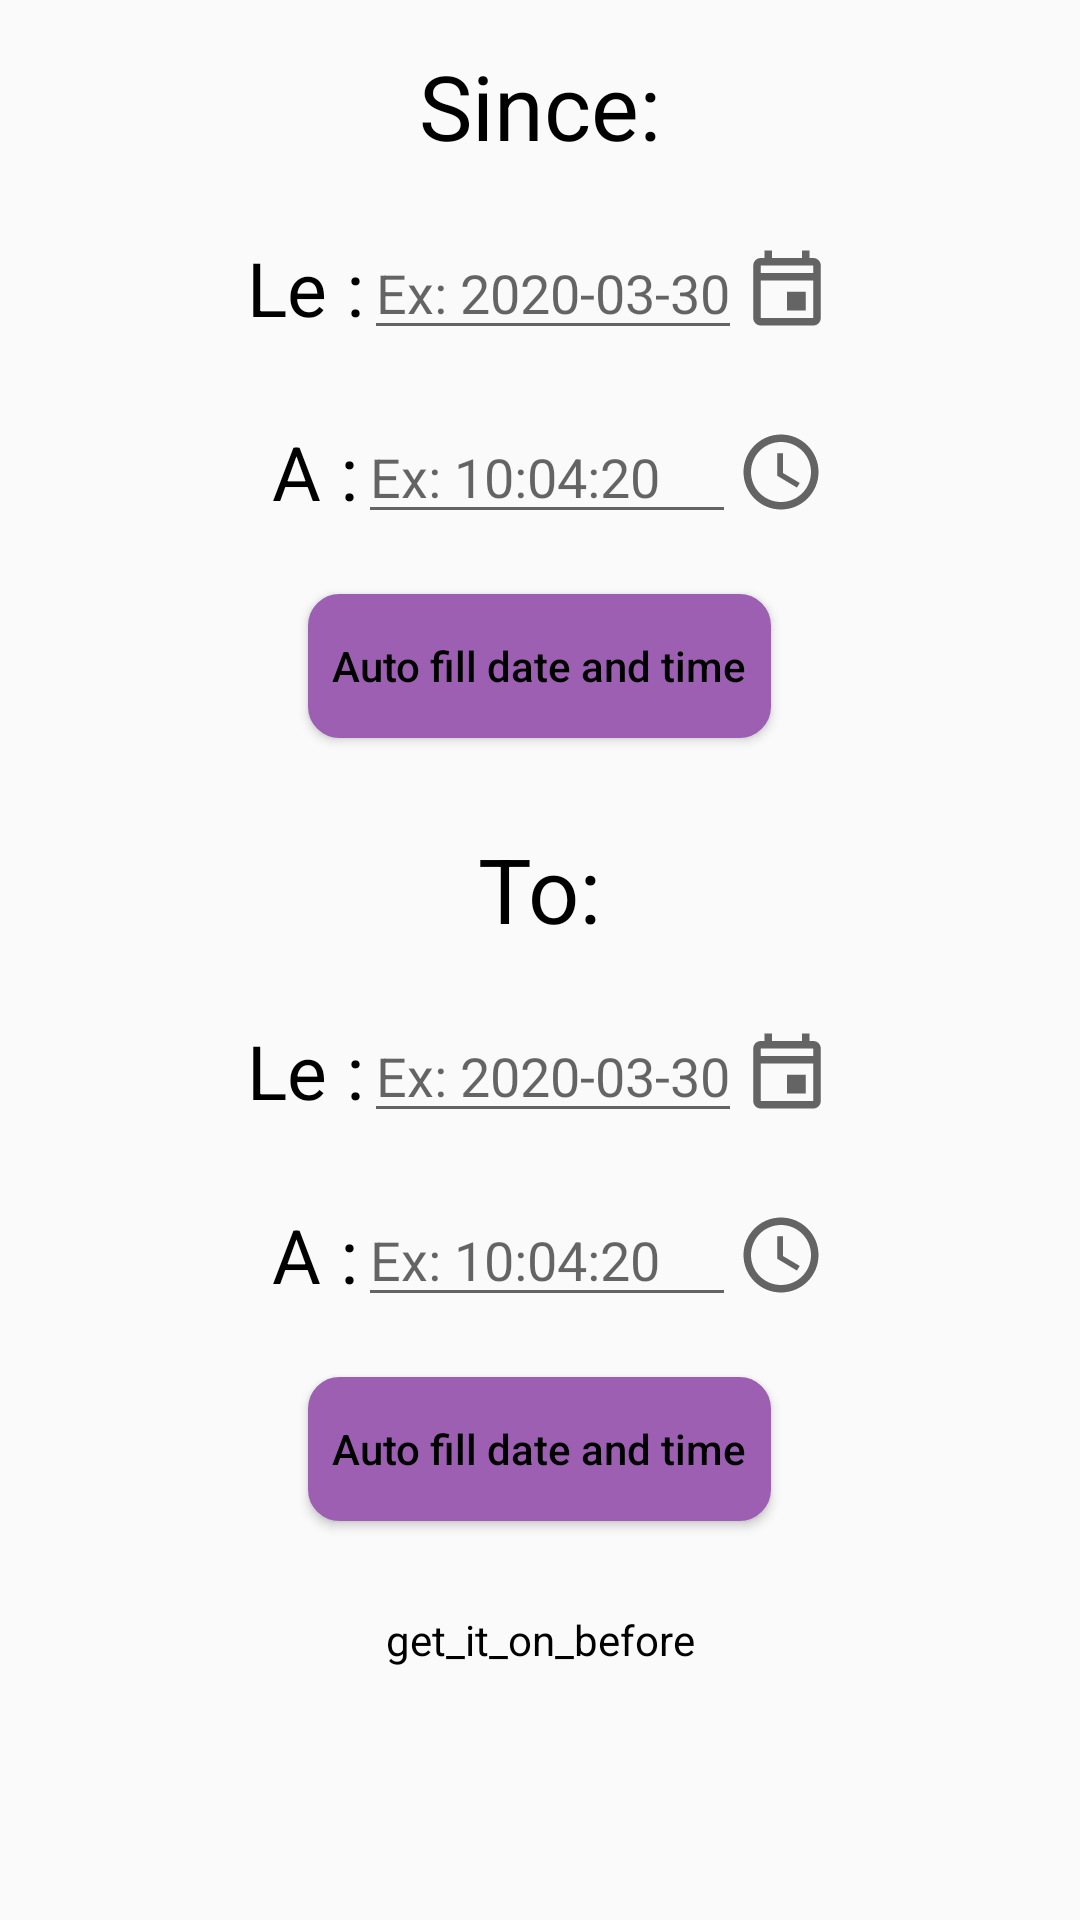

Icons on this 1080px×1920px Android screen, each with the point to tap as [x,y]:
event: [787,288], [787,1071]
schedule: [781,472], [781,1255]
